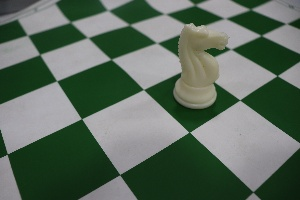white_horse: (170, 5, 230, 116)
